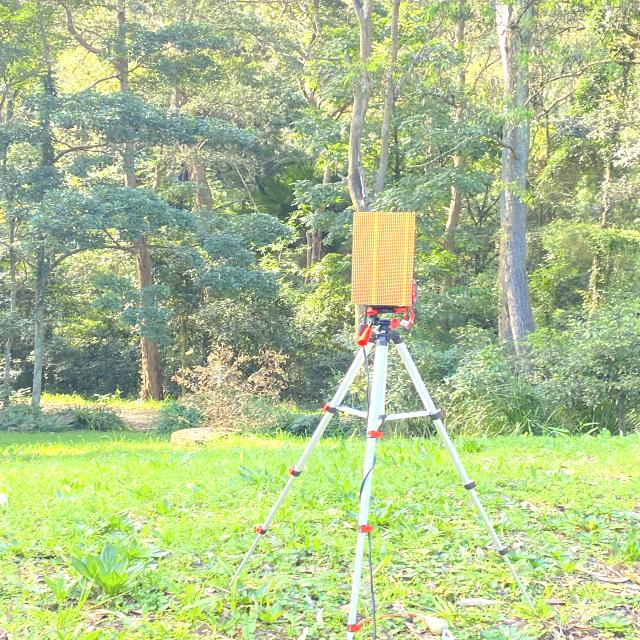matrix: (347, 208, 417, 310)
